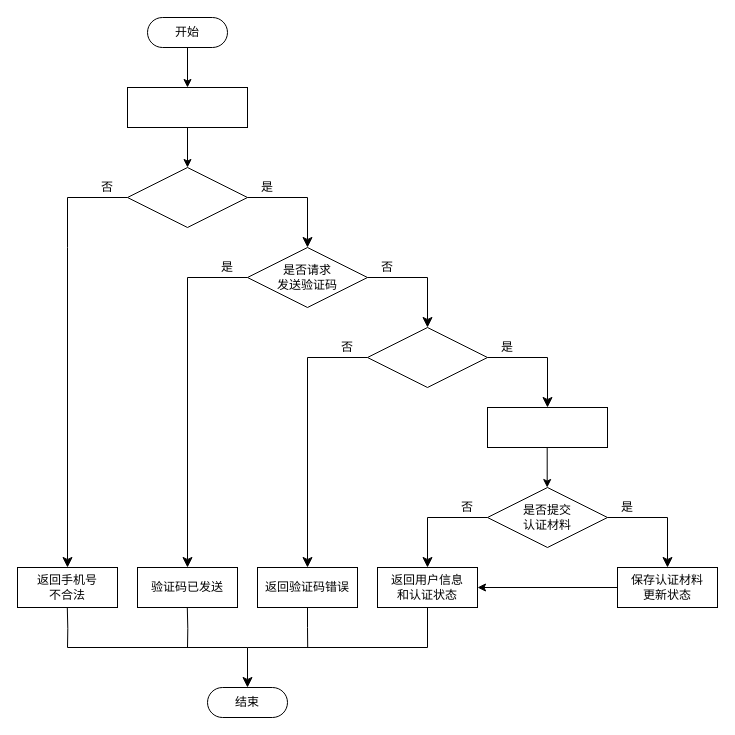
This 735x735 diagram has some shape labels left out. The shapes that lost their labels are listed below. From the top down, each one's centre as x and y in pixels, then its label:
At [187,107]: "输入手机号".
At [187,197]: "手机号是否合法".
At [427,357]: "验证码是否通过".
At [547,427]: "保存登录/注册状态".
